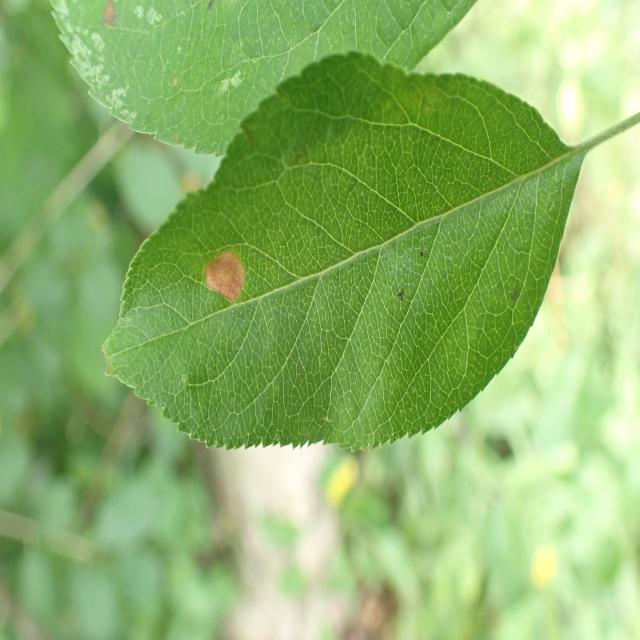Black Rot: (198, 238, 245, 324), (98, 0, 126, 41)
